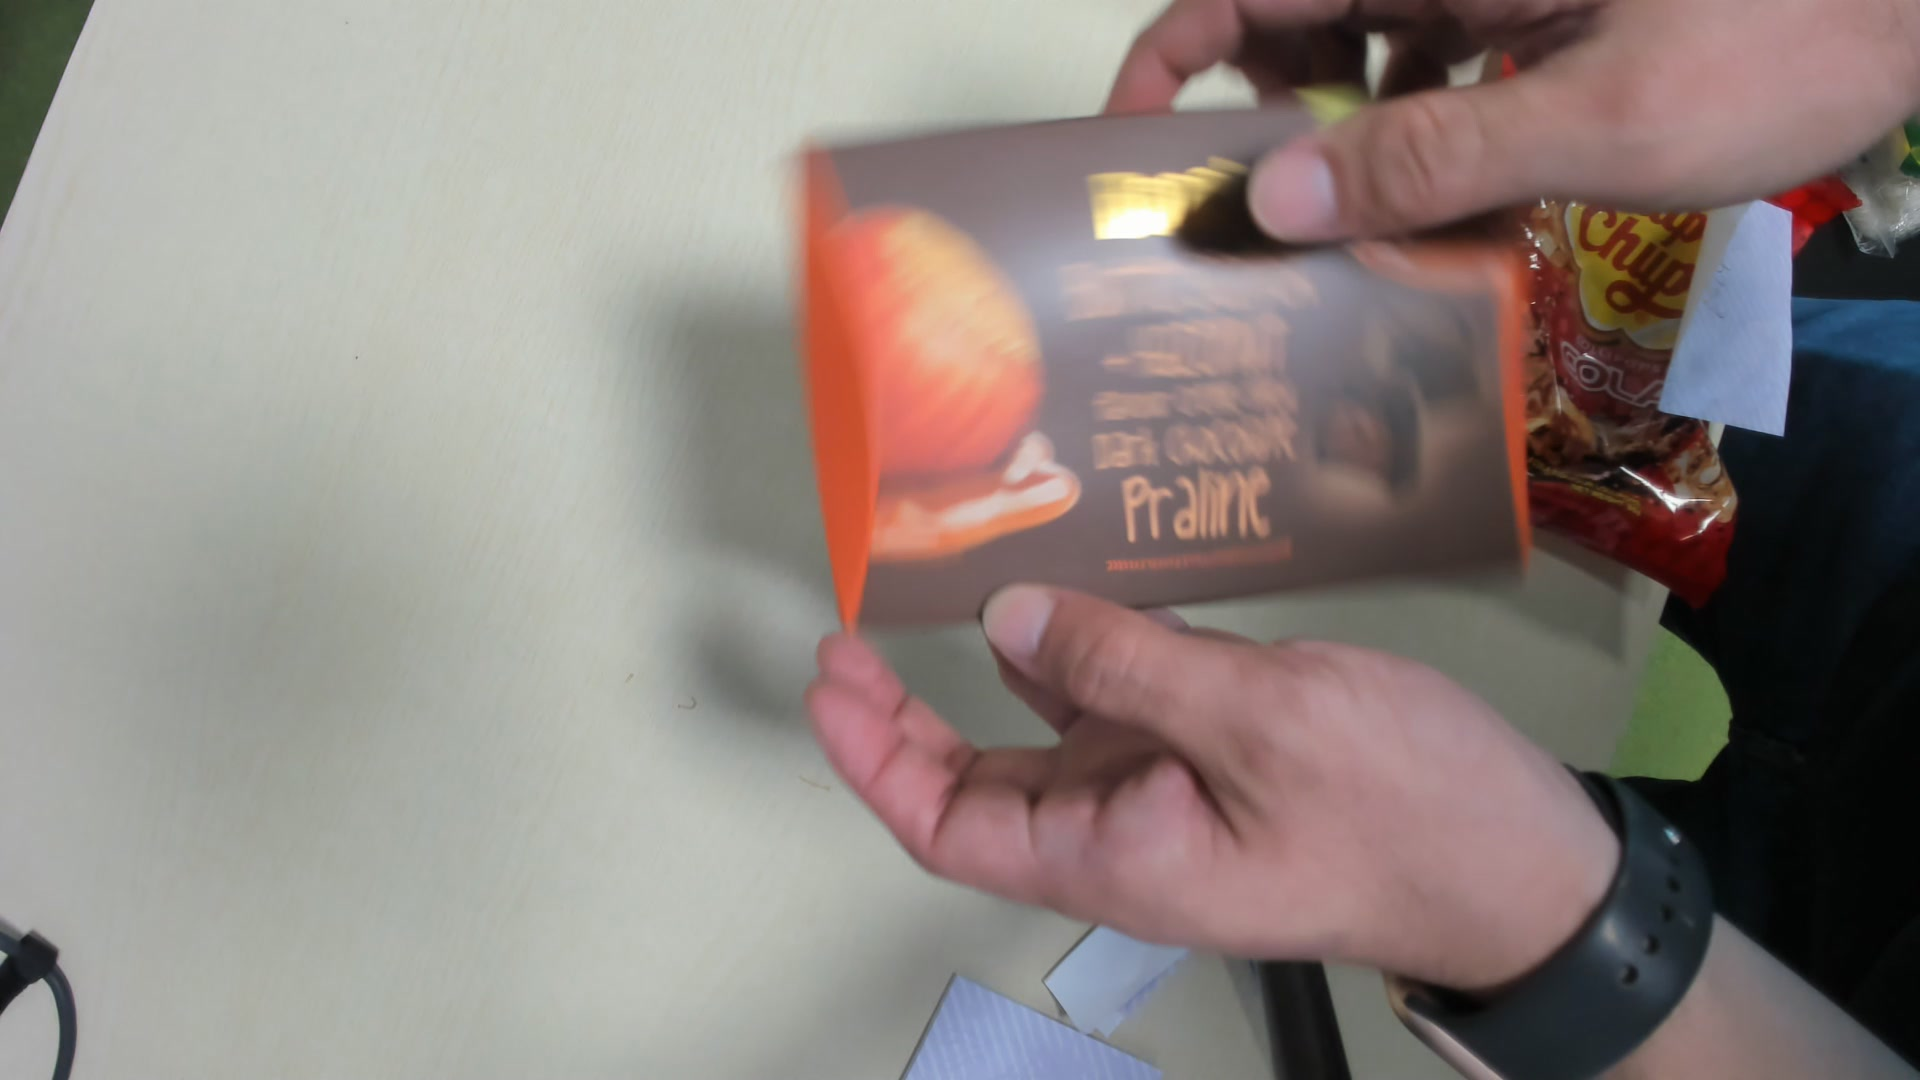SweetsChocolatesOthers_0-99g_NonHalal_Nonhealthy: (806, 95, 1536, 634)
